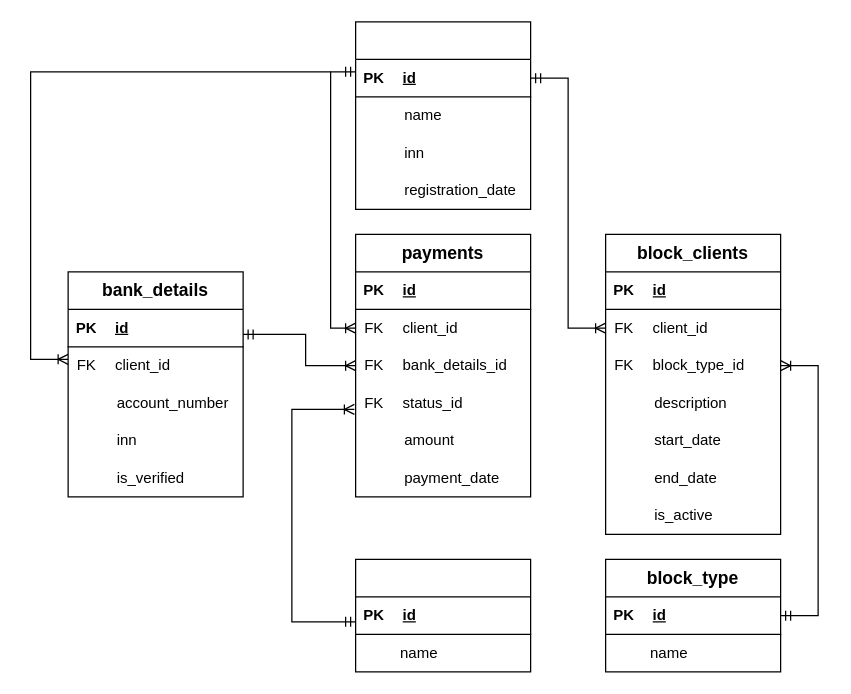
Some shapes in this 851 by 694 pixel diagram are drawn without their labels. Each missing label, with the box of its shape:
clients: (354, 21, 531, 209)
payments_status: (354, 558, 531, 672)
